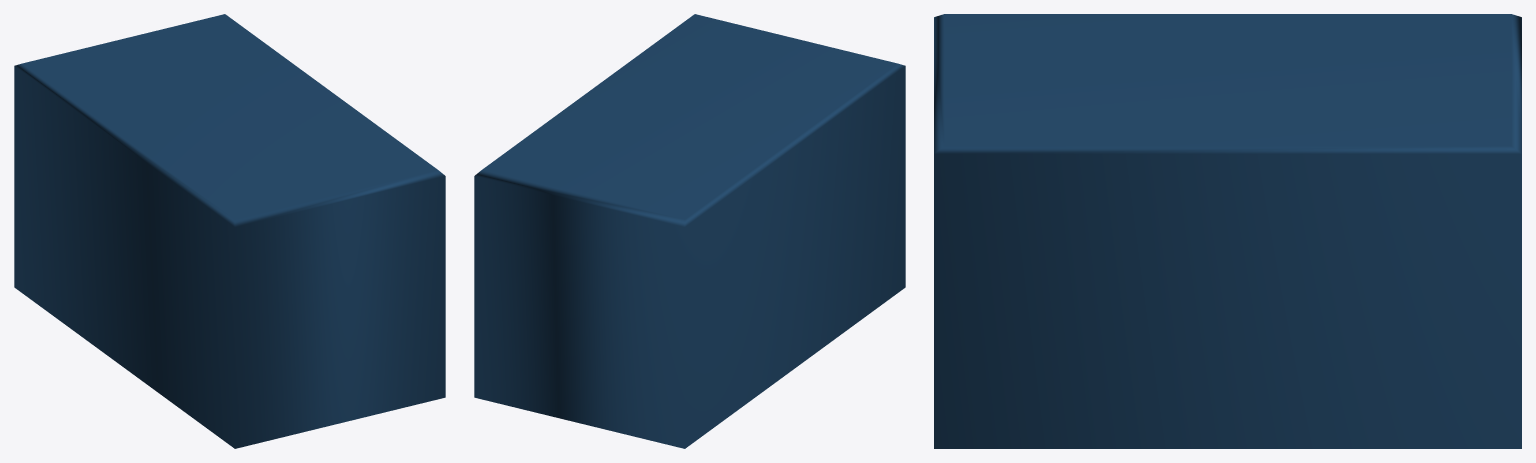
File: B_Stone_05.fbx
The picture shows the model from 3 angles, left to right: view 1: azimuth 30°, elevation 25°; view 2: azimuth 150°, elevation 25°; view 3: azimuth 270°, elevation 25°; orthographic projection. The views are drawn at different scales.
Visible parts, largest first — view 1: B_Stone_05; view 2: B_Stone_05; view 3: B_Stone_05.
Boxes of the visible parts, x1=… form: B_Stone_05: x1=14, y1=14, x2=445, y2=448; B_Stone_05: x1=474, y1=14, x2=905, y2=448; B_Stone_05: x1=934, y1=14, x2=1521, y2=448.
Size of the model in its own units: 94.97 by 97.88 by 172.
